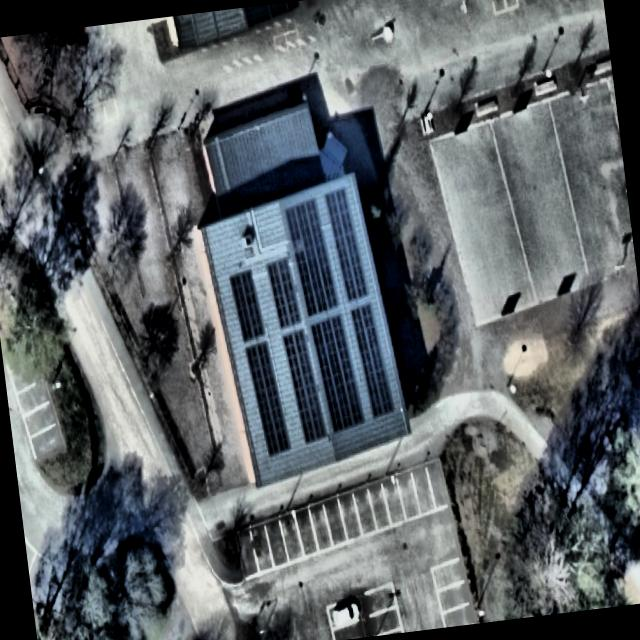roof_pv: (309, 310, 366, 436), (282, 195, 340, 318), (280, 326, 328, 447), (322, 185, 370, 302), (349, 302, 396, 421), (245, 341, 292, 459), (226, 266, 267, 346), (264, 256, 304, 328)
